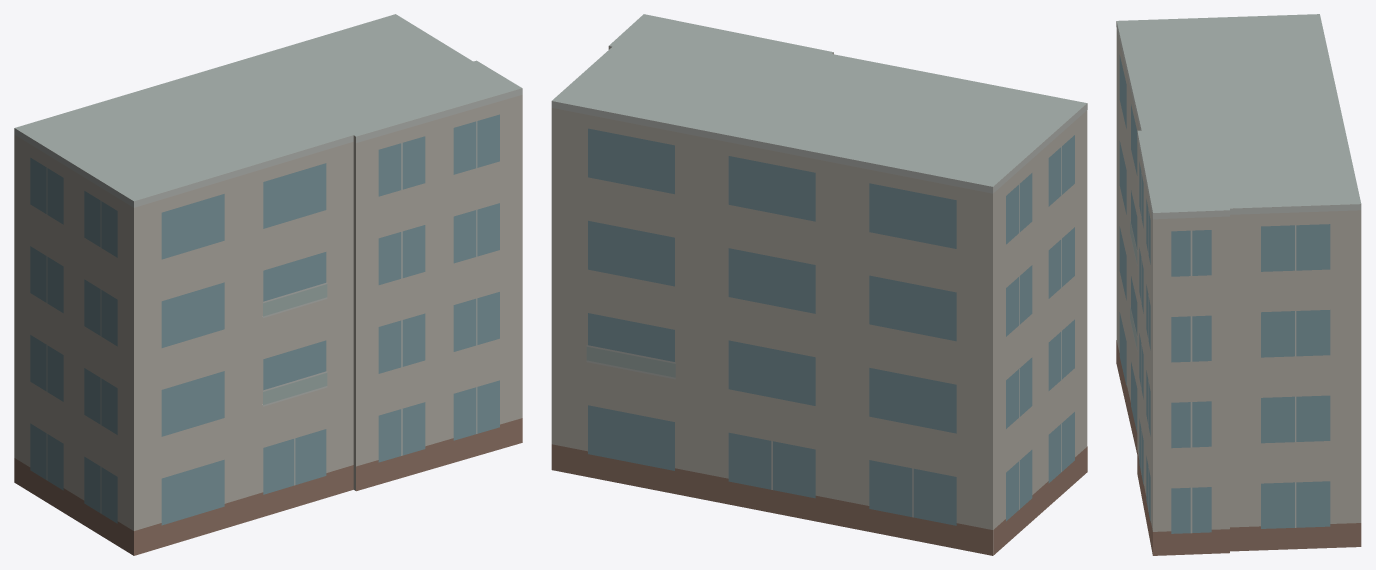
The model's file is survey-upis-32476953.glb.
The picture shows the model from 3 angles, left to right: view 1: azimuth 30°, elevation 25°; view 2: azimuth 150°, elevation 25°; view 3: azimuth 270°, elevation 25°; orthographic projection. The views are drawn at different scales.
Parts seen in each view (by area): view 1: survey-upis-32476953.tmp; view 2: survey-upis-32476953.tmp; view 3: survey-upis-32476953.tmp.
Part boxes in pixels (x1,y1,x2,y2): survey-upis-32476953.tmp: [14, 14, 522, 555]; survey-upis-32476953.tmp: [551, 14, 1087, 555]; survey-upis-32476953.tmp: [1116, 14, 1361, 555].
Bounding box in the file's own units: 16.57 × 13.3 × 8.62.
